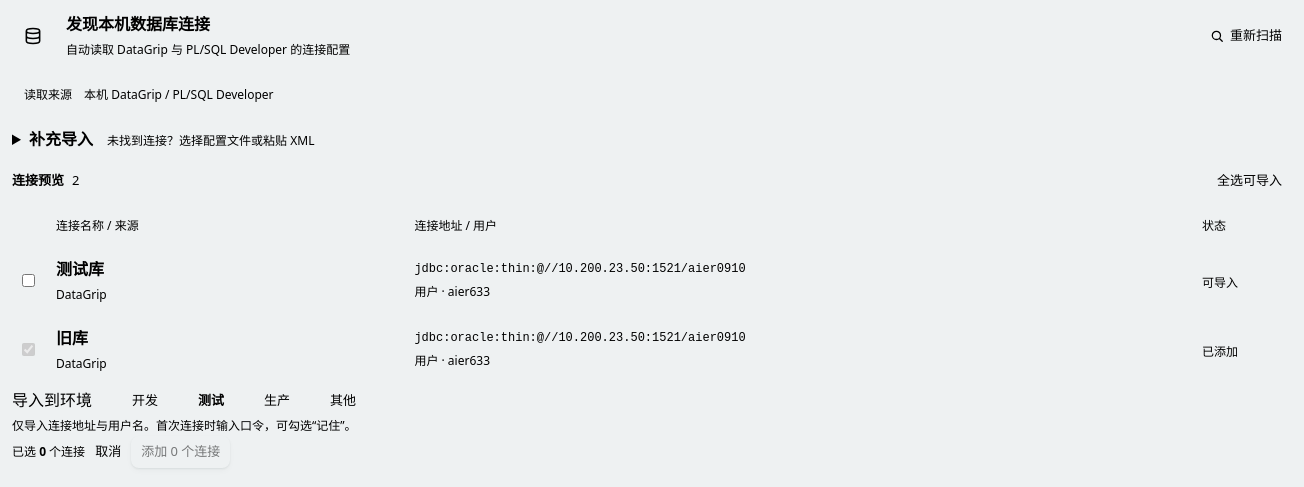
导入预览选择 › 全选只选择可导入项，再次操作可取消
The image size is (1304, 487).
Click the button "全选可导入": (1250, 180) [1207, 164, 1292, 196]
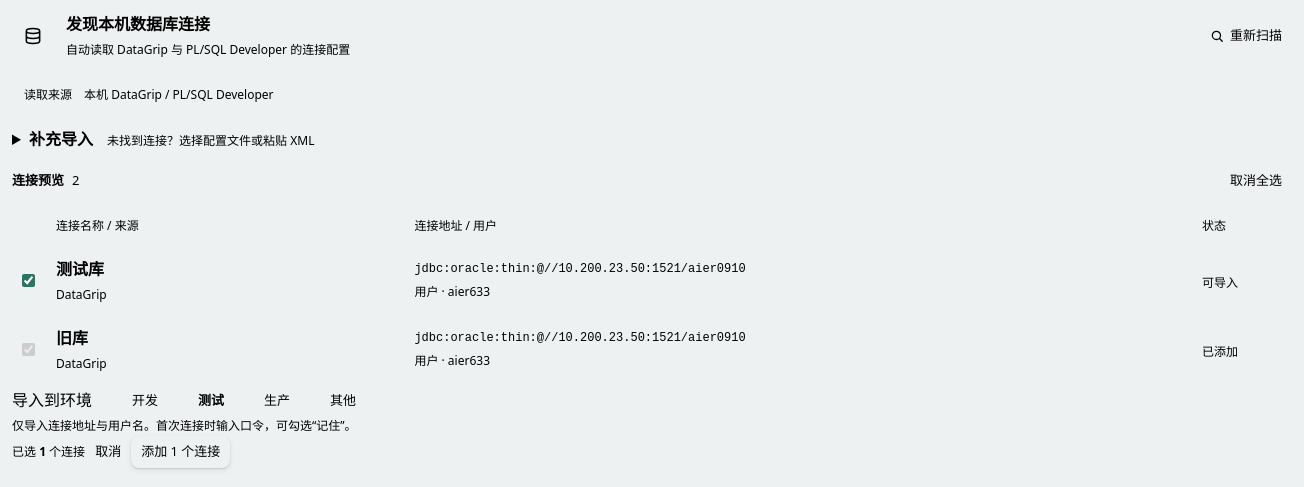
Expected: the checkbox labelled "旧库" is disabled, [22, 343, 35, 356]
Expected: the button "添加 1 个连接" is enabled, [131, 436, 230, 468]
Expected: the checkbox labelled "测试库" is checked, [22, 274, 35, 287]
Click the button "取消全选": (1256, 180) [1220, 164, 1292, 196]
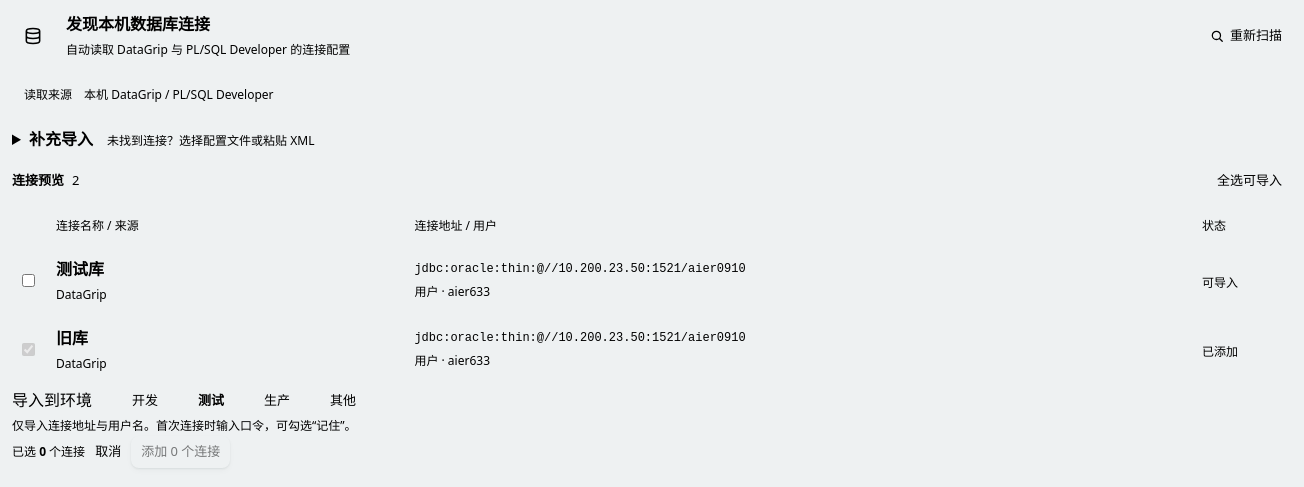
Expected: the checkbox labelled "测试库" is not checked, [22, 274, 35, 287]
Expected: the button "添加 0 个连接" is disabled, [131, 436, 230, 468]
